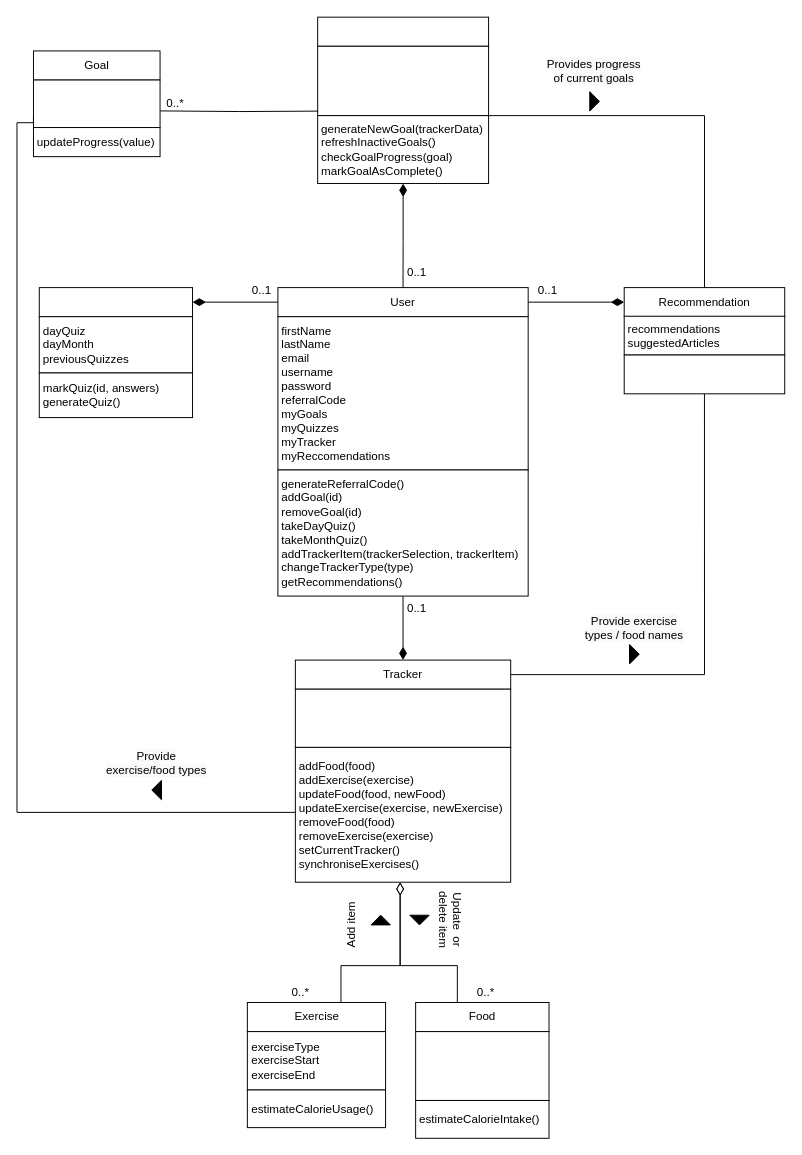
Some shapes in this 802 by 1155 pixel diagram are drawn without their labels. Each missing label, with the box of its shape:
activeWeekGoals activeMonthGoals inactiveGoals completedGoals: (317, 45, 489, 116)
description progress badgeIconUrl: (32, 79, 160, 128)
exerciseItems foodItems currentTracker: (294, 688, 511, 747)
foodType foodName servingSize foodTime: (415, 1031, 549, 1100)
generateReccomendations() pickSuggestedArticle(): (623, 354, 785, 394)
Goals: (317, 16, 489, 46)
Quizzes: (38, 287, 193, 317)
